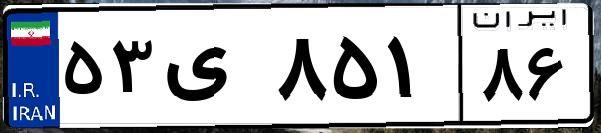1: (385, 28, 445, 110)
3: (110, 28, 158, 98)
5: (330, 28, 385, 110), (57, 26, 110, 100)
6: (525, 38, 570, 115)
8: (270, 28, 330, 110), (475, 38, 525, 113)
ی: (158, 20, 270, 120)
